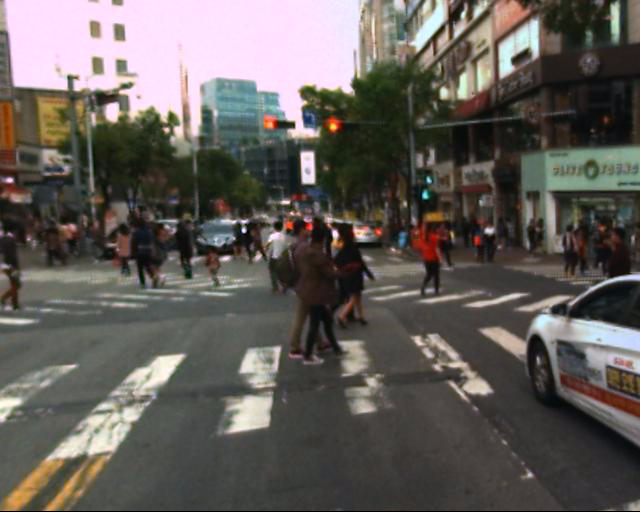person: (278, 208, 352, 381), (324, 210, 377, 338), (435, 217, 532, 277), (540, 220, 640, 274), (407, 216, 457, 309), (165, 215, 207, 288), (304, 218, 337, 306), (266, 219, 296, 304), (136, 219, 165, 295), (113, 216, 139, 279), (202, 242, 229, 296)
